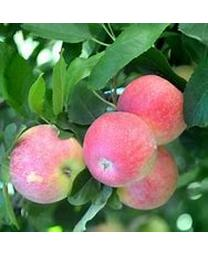apple: (9, 123, 87, 203), (84, 112, 156, 186), (116, 75, 187, 146), (114, 145, 179, 210)
